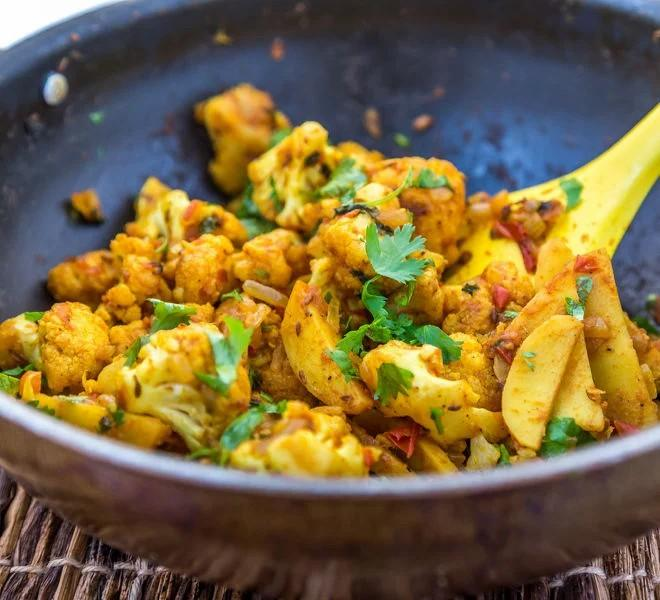AlooGobi: (1, 83, 660, 477)
